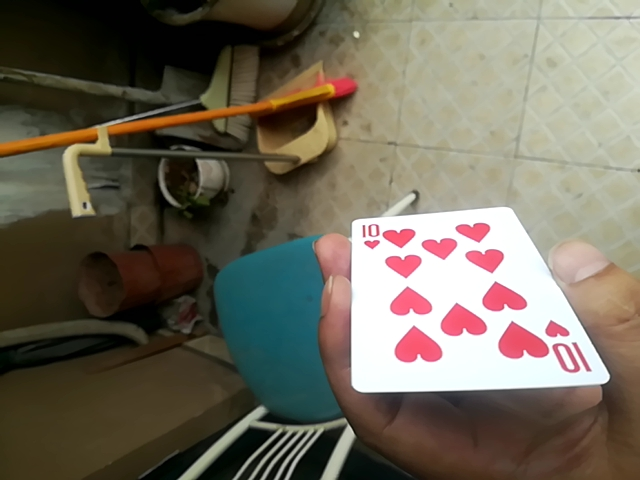hx 10: (346, 206, 600, 391)
